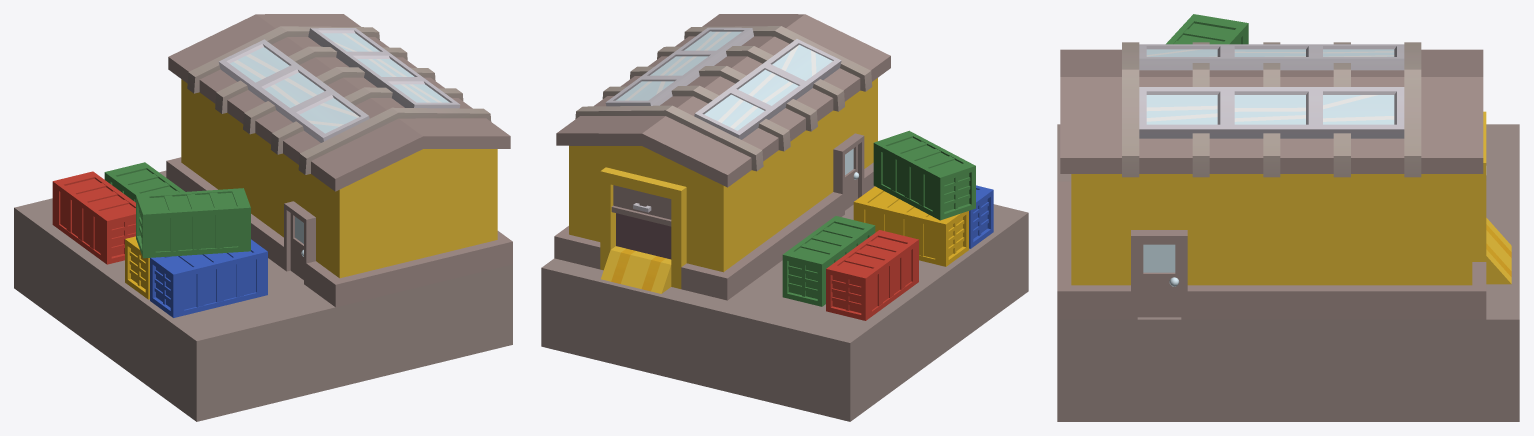
Rendered from Yellow_Warehouse.fbx.
3 renders of one model, left to right at view 1: azimuth 30°, elevation 25°; view 2: azimuth 150°, elevation 25°; view 3: azimuth 270°, elevation 25°, orthographic. The views are drawn at different scales.
Parts seen in each view (by area): view 1: Yellow_Warehouse; view 2: Yellow_Warehouse; view 3: Yellow_Warehouse.
Boxes of the visible parts, <box> form: Yellow_Warehouse: <box>14,14,512,421</box>; Yellow_Warehouse: <box>541,14,1028,421</box>; Yellow_Warehouse: <box>1057,14,1519,421</box>.
Bounding box in the file's own units: 406 × 284 × 400.
